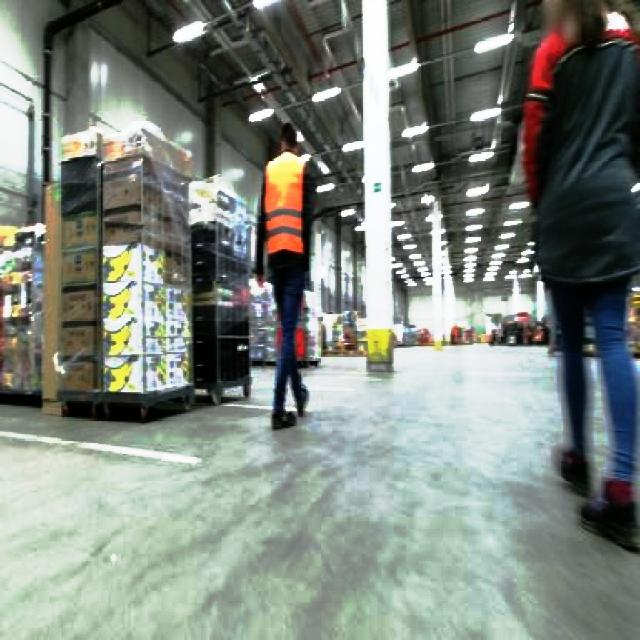ground: (0, 338, 638, 638)
pallet: (42, 128, 197, 422), (188, 175, 252, 405), (38, 180, 100, 417), (0, 222, 40, 403)
